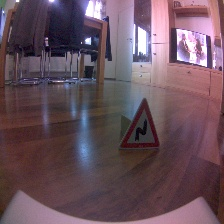vorsicht: (116, 96, 164, 151)
